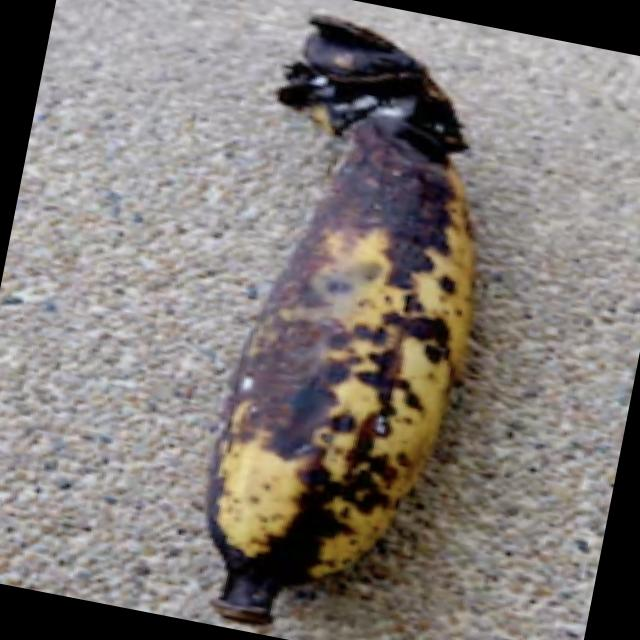rotten-banana: (185, 106, 512, 636)
